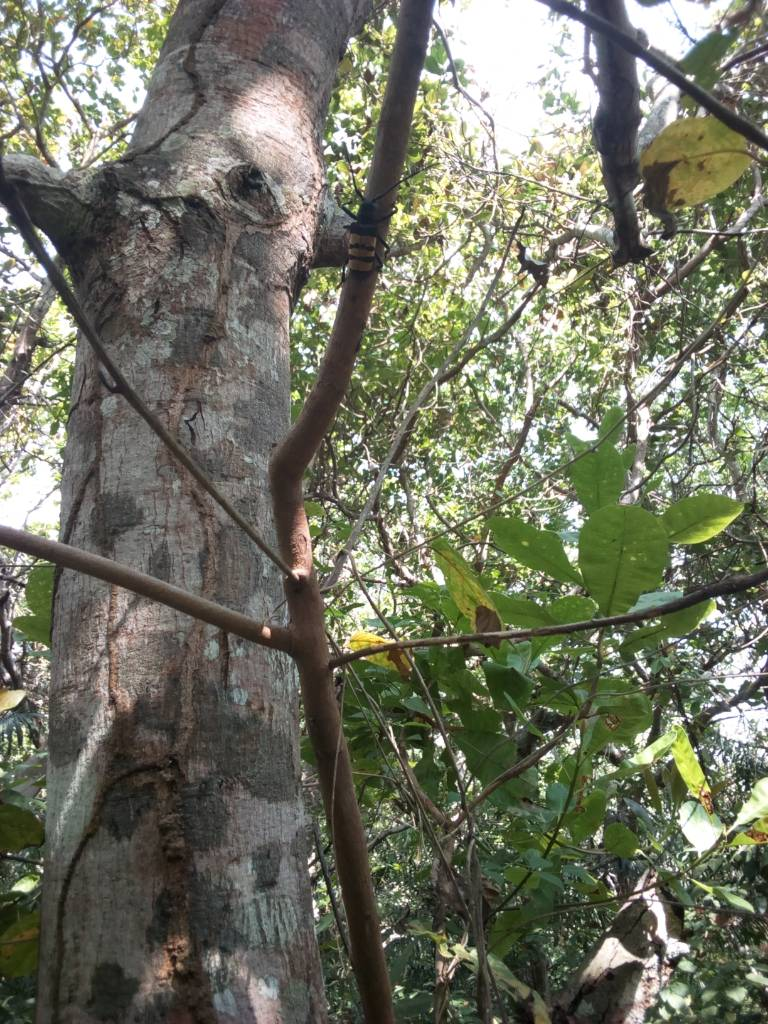Termites: (72, 730, 221, 1019), (166, 202, 232, 722)
